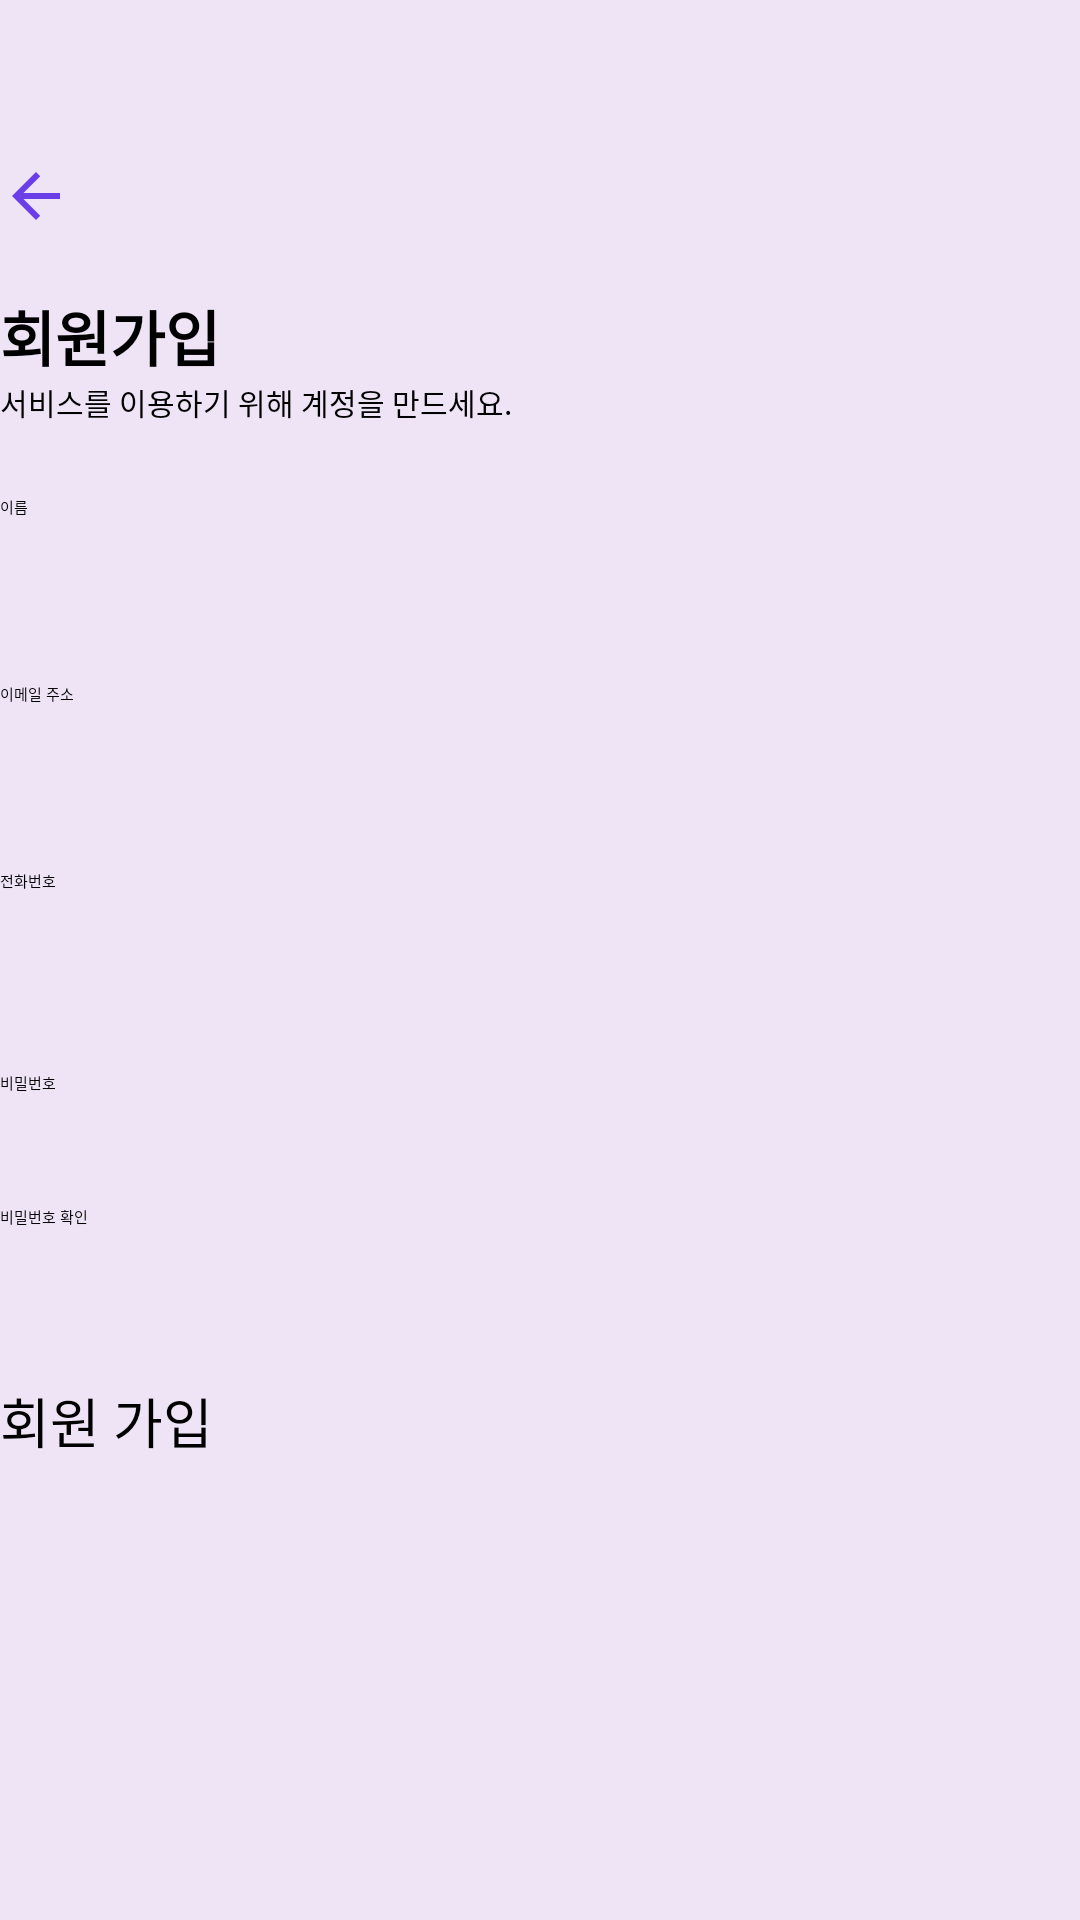

Screen size 1080×1920. Icon name, then its box in pixels as Rect(x1, y1, x2, y2):
back: Rect(12, 172, 60, 220)
